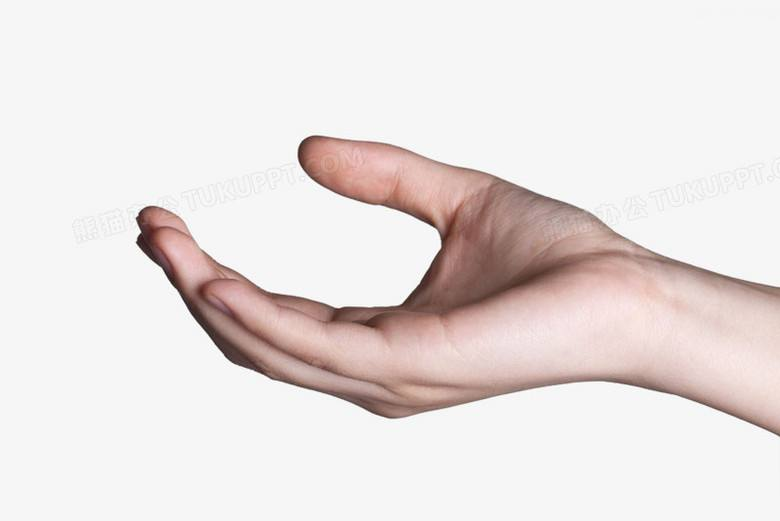no-phone: (128, 130, 649, 426)
